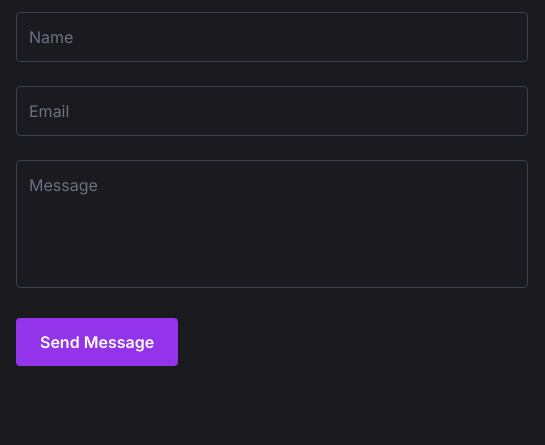
Test: ContactForm Component › submits form with user input
The image size is (545, 445).
Note: Fill form
Type "John Doe" into the field with placeholder "Name" at (272, 37), box [16,12,528,62]
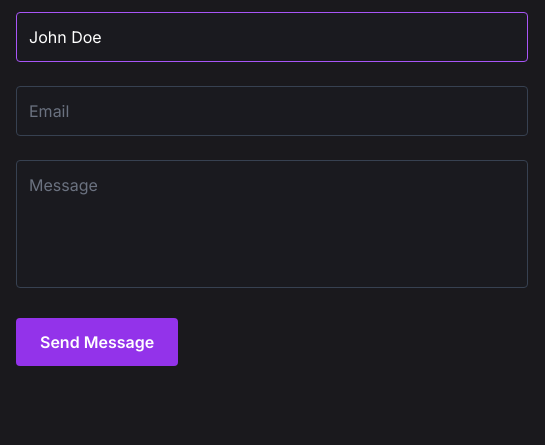
Type "john@example.com" into the field with placeholder "Email" at (272, 111), box [16,86,528,136]
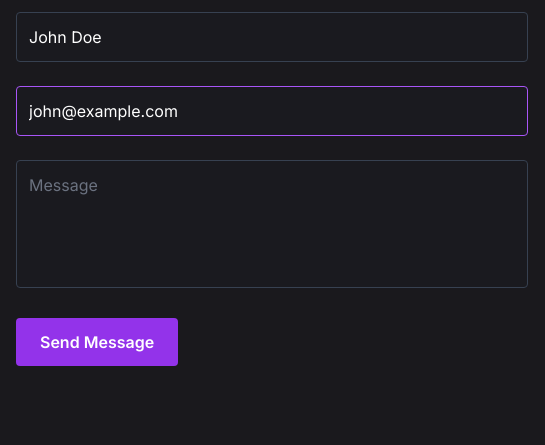
Type "Test message" into the text box with placeholder "Message" at (272, 224), box [16,160,528,288]
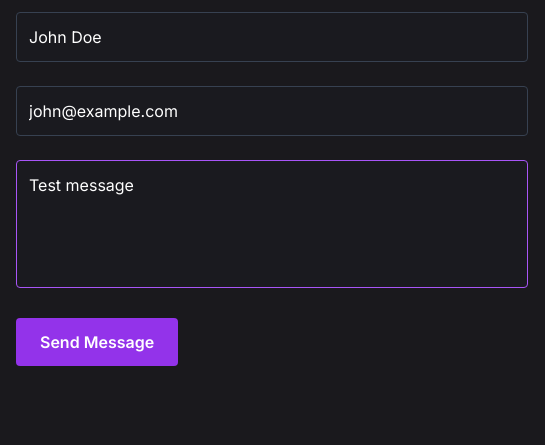
Click the button "Send Message" at (97, 342), box [16,318,178,366]
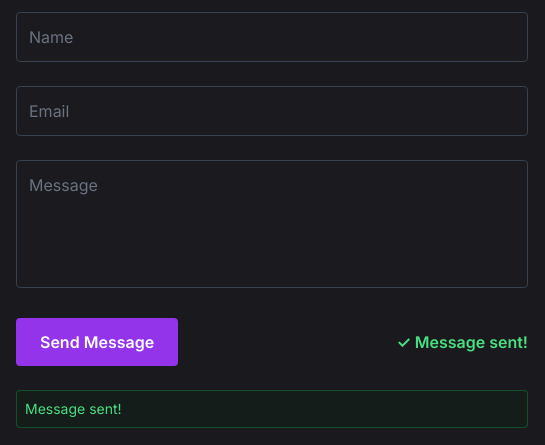
Check: the text "Message sent!" is shown, box [16,390,528,428]
